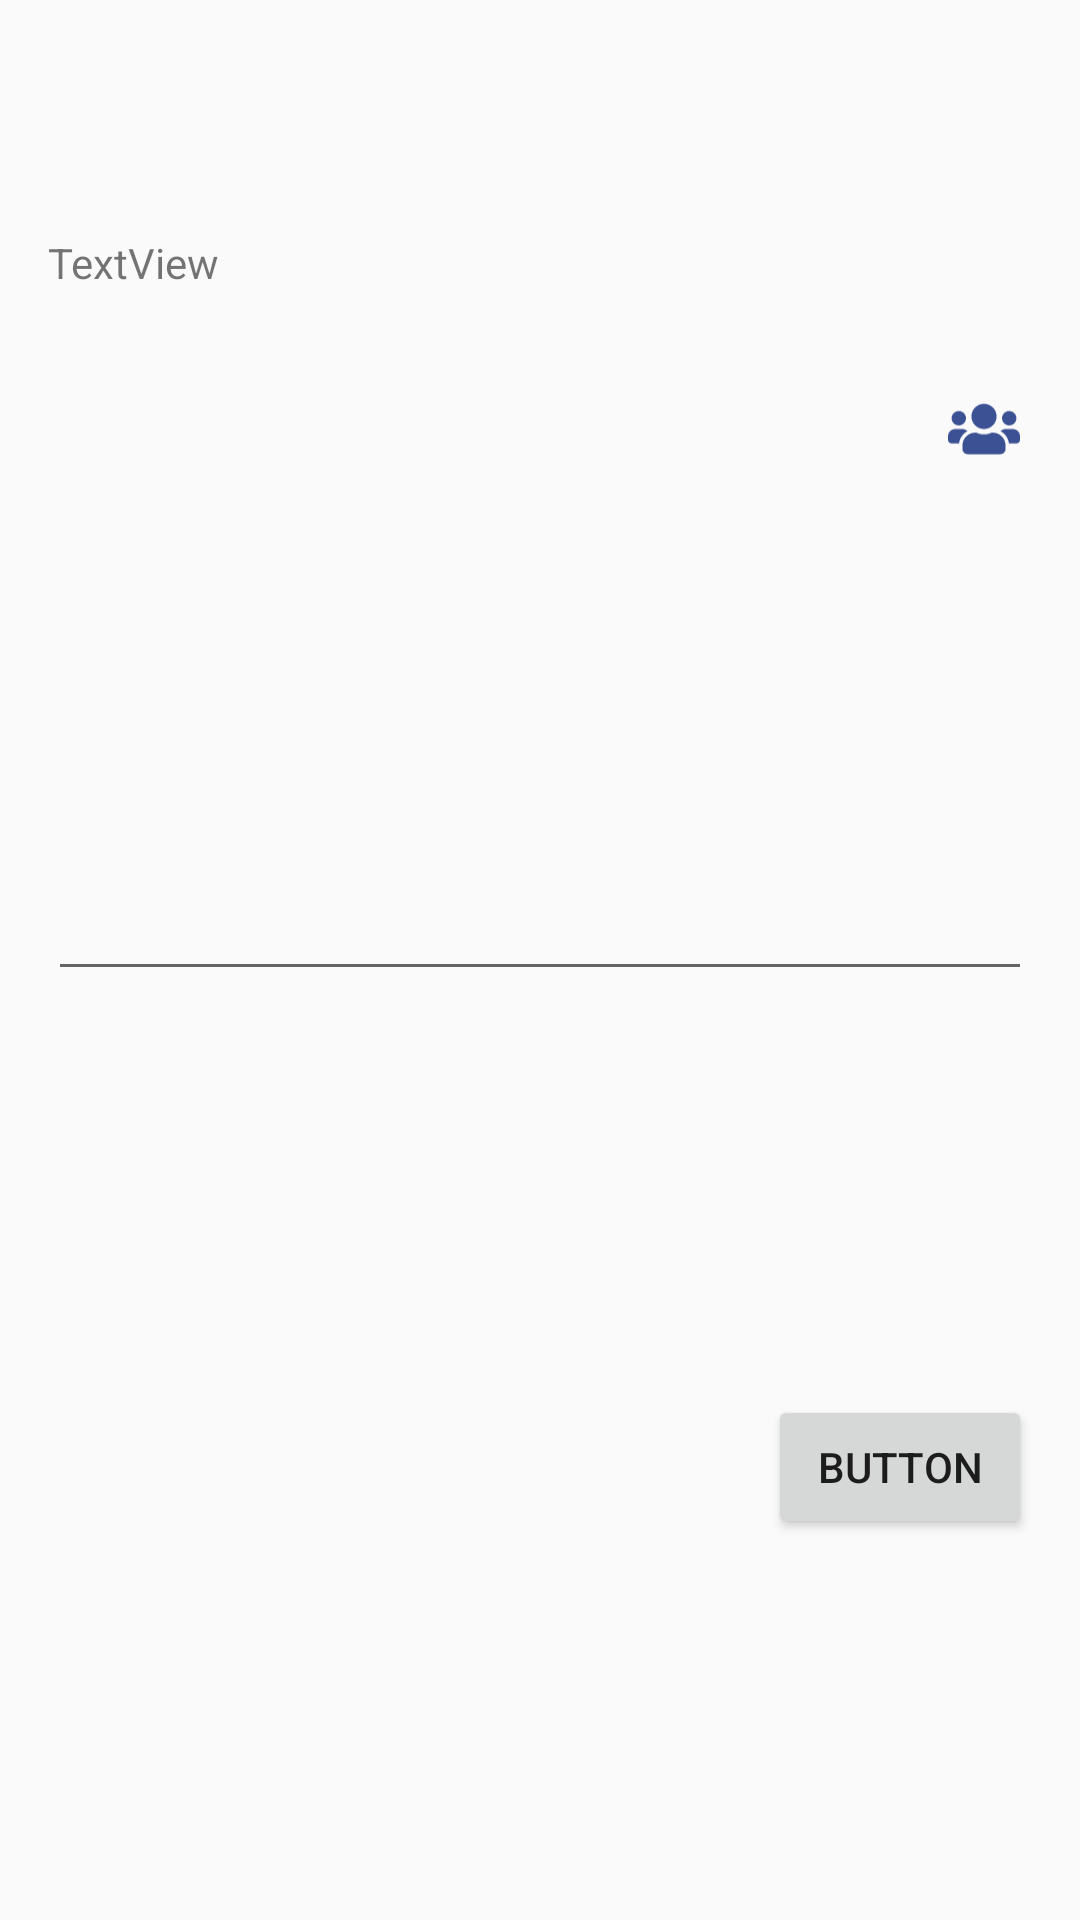

Icon click points for this 1080px x 1920px phone screenshot, format point (x, y):
players: point (984, 429)
